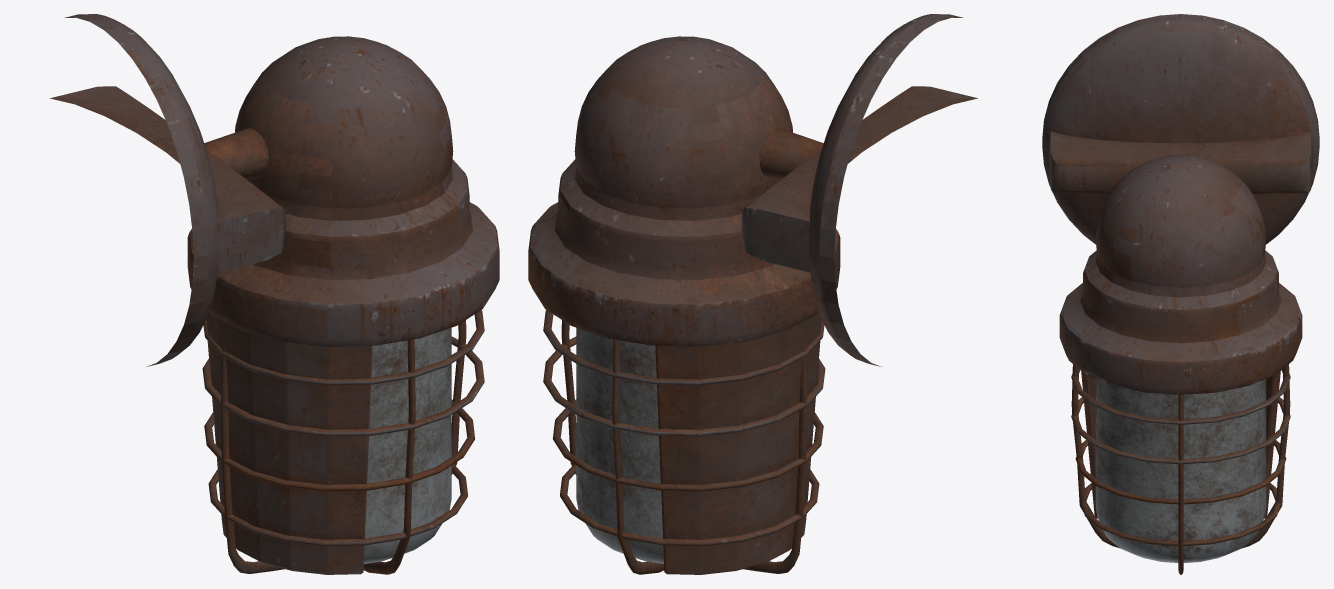
Rendered from CagedLightTexture.gltf.
3 renders of one model, left to right at view 1: azimuth 30°, elevation 25°; view 2: azimuth 150°, elevation 25°; view 3: azimuth 270°, elevation 25°, orthographic. The views are drawn at different scales.
Visible parts, largest first — view 1: SM_CagedLight; view 2: SM_CagedLight; view 3: SM_CagedLight.
Boxes of the visible parts, box(x1,y1,x2,y2) form: SM_CagedLight: box(50, 14, 499, 574); SM_CagedLight: box(528, 14, 977, 574); SM_CagedLight: box(1042, 14, 1319, 574).
Size of the model in its own units: 0.0394 by 0.0589 by 0.0326.
1 material, 1 textured.
